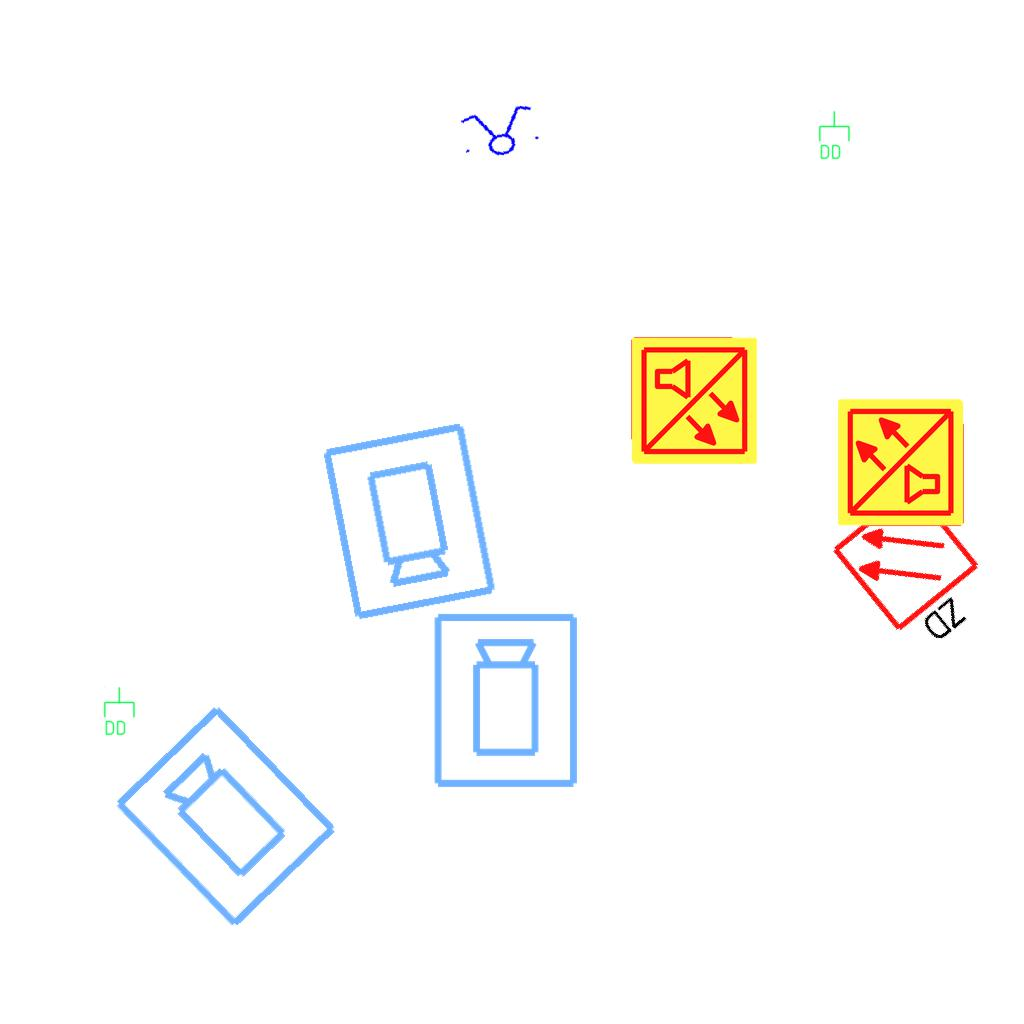Datenanschluss_zweifach: (102, 686, 136, 737), (817, 110, 851, 161)
KFO_Kamera_mit_Festobjektiv: (108, 697, 346, 935), (315, 416, 501, 626), (430, 610, 584, 792)
OKW_Multisensormelder_(Kombination_optischer_Rauch-Kahlenmonoxid_Waerme-Melder): (628, 335, 760, 467), (835, 396, 967, 528)
Serienschalter: (453, 100, 545, 164)
ZD_Melder_in_Zwischendecke_mit_Revisionsoeffnung_mind_40_x_40_cm: (827, 477, 1011, 666)
